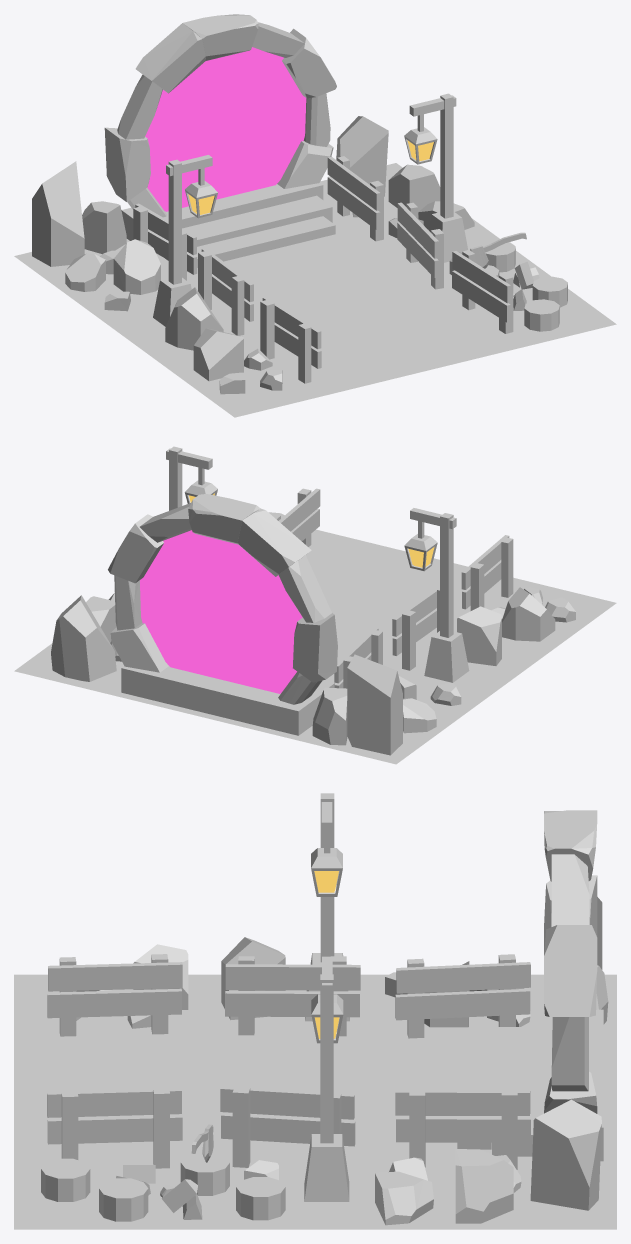
The model's file is portal.glb.
3 renders of one model, top to bottom at view 1: azimuth 30°, elevation 25°; view 2: azimuth 150°, elevation 25°; view 3: azimuth 270°, elevation 25°, orthographic. The views are drawn at different scales.
Visible parts, largest first — view 1: baked, portalLight; view 2: baked, portalLight; view 3: baked.
Boxes of the visible parts, left/top/right/bottom form: baked: left=14, top=14, right=616, bottom=417; portalLight: left=145, top=47, right=306, bottom=211; baked: left=14, top=446, right=616, bottom=764; portalLight: left=140, top=530, right=302, bottom=693; baked: left=14, top=793, right=616, bottom=1229.
Size of the model in its own units: 4 by 2.02 by 4.
